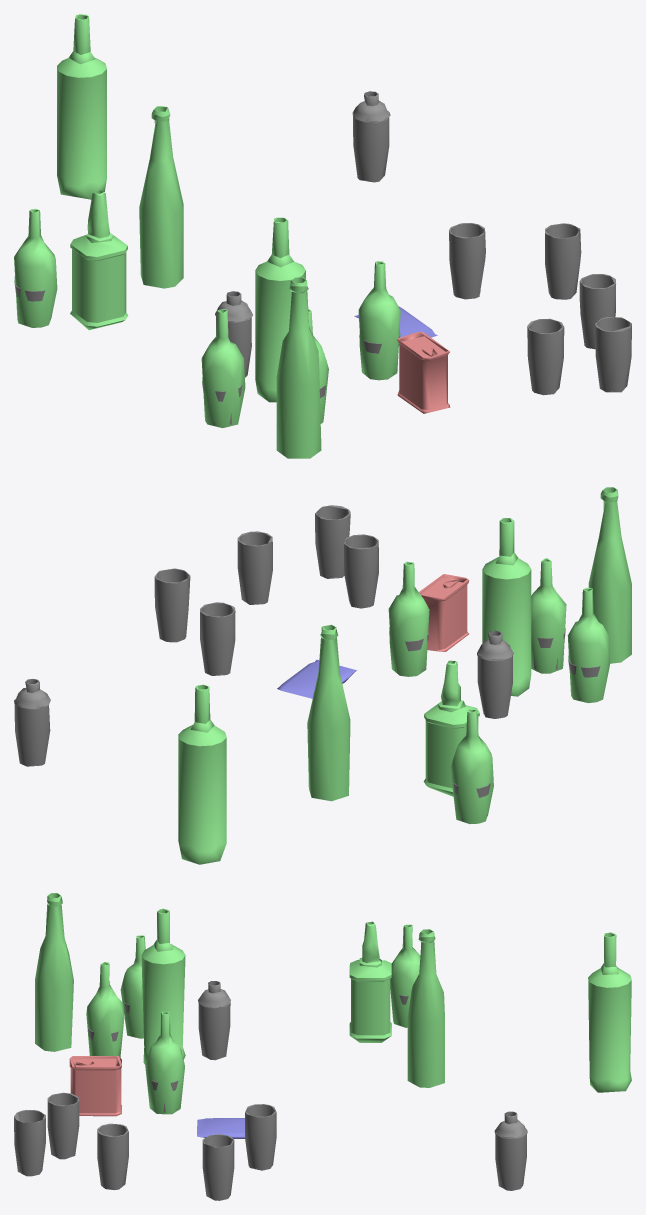
File: SM_prop_bottles_group_A.gltf
3 views of the same model, one above another, from view 1: azimuth 30°, elevation 25°; view 2: azimuth 150°, elevation 25°; view 3: azimuth 270°, elevation 25° (orthographic). The views are drawn at different scales.
Parts seen in each view (by area): view 1: SM_prop_bottles_group_A; view 2: SM_prop_bottles_group_A; view 3: SM_prop_bottles_group_A.
Boxes of the visible parts, <box> form: SM_prop_bottles_group_A: <box>14,14,631,458</box>; SM_prop_bottles_group_A: <box>14,487,631,864</box>; SM_prop_bottles_group_A: <box>14,893,631,1200</box>.
Size of the model in its own units: 1.13 by 0.426 by 1.53.
